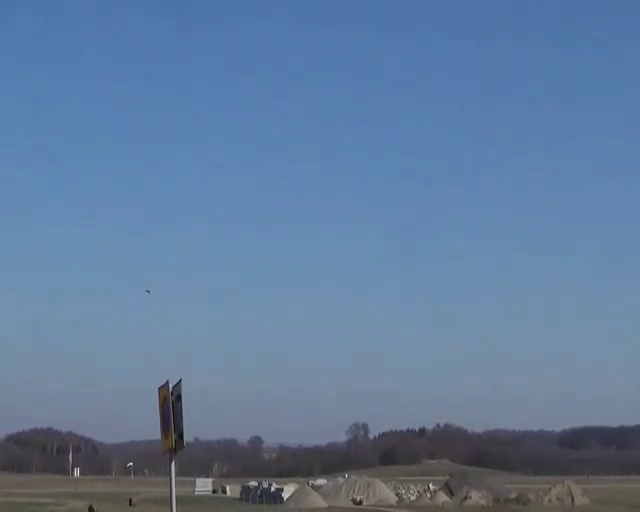BIRD: (144, 288, 152, 294)
